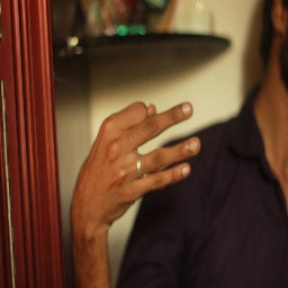K: (76, 96, 203, 217)
